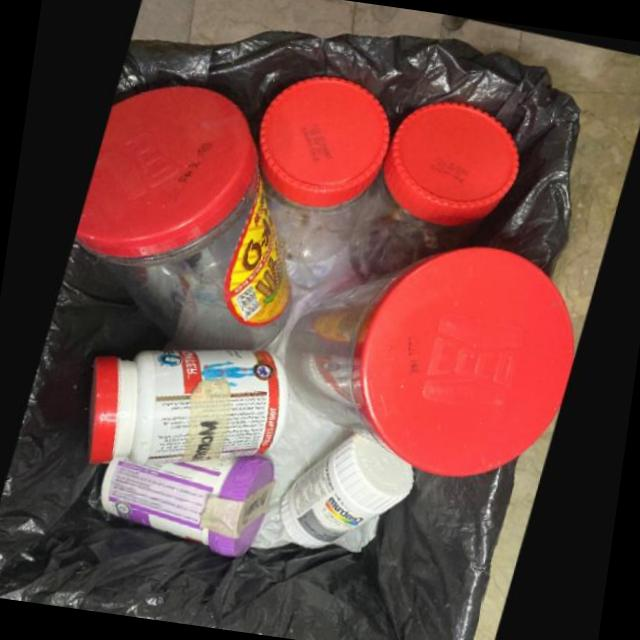chai_nhua: (90, 346, 291, 460), (102, 451, 277, 554), (282, 431, 415, 547)
hop_nhua: (284, 246, 575, 477), (75, 82, 292, 348), (349, 101, 519, 278), (258, 74, 390, 261)
